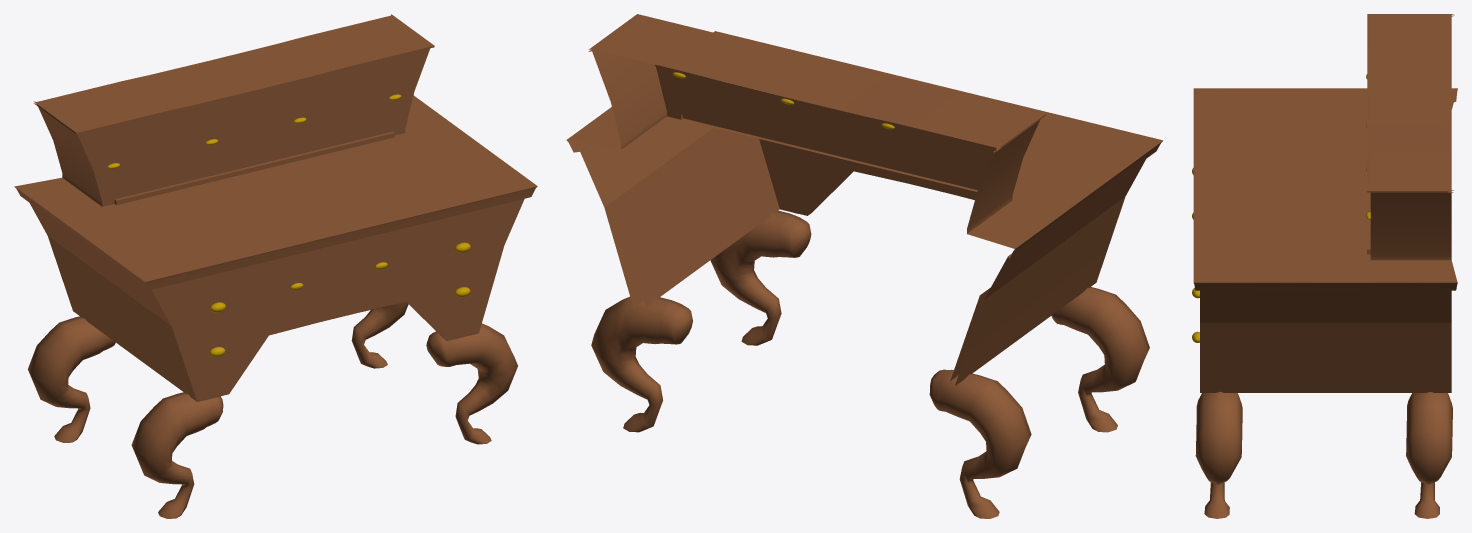
Rendered from sm_study_desk.fbx.
The picture shows the model from 3 angles, left to right: view 1: azimuth 30°, elevation 25°; view 2: azimuth 150°, elevation 25°; view 3: azimuth 270°, elevation 25°; orthographic projection. The views are drawn at different scales.
Visible parts, largest first — view 1: sm_desk; view 2: sm_desk; view 3: sm_desk.
Part boxes in pixels (x1,y1,x2,y2): sm_desk: [14, 14, 537, 518]; sm_desk: [566, 14, 1163, 518]; sm_desk: [1192, 14, 1457, 518].
Bounding box in the file's own units: 140 × 113 × 80.88.
